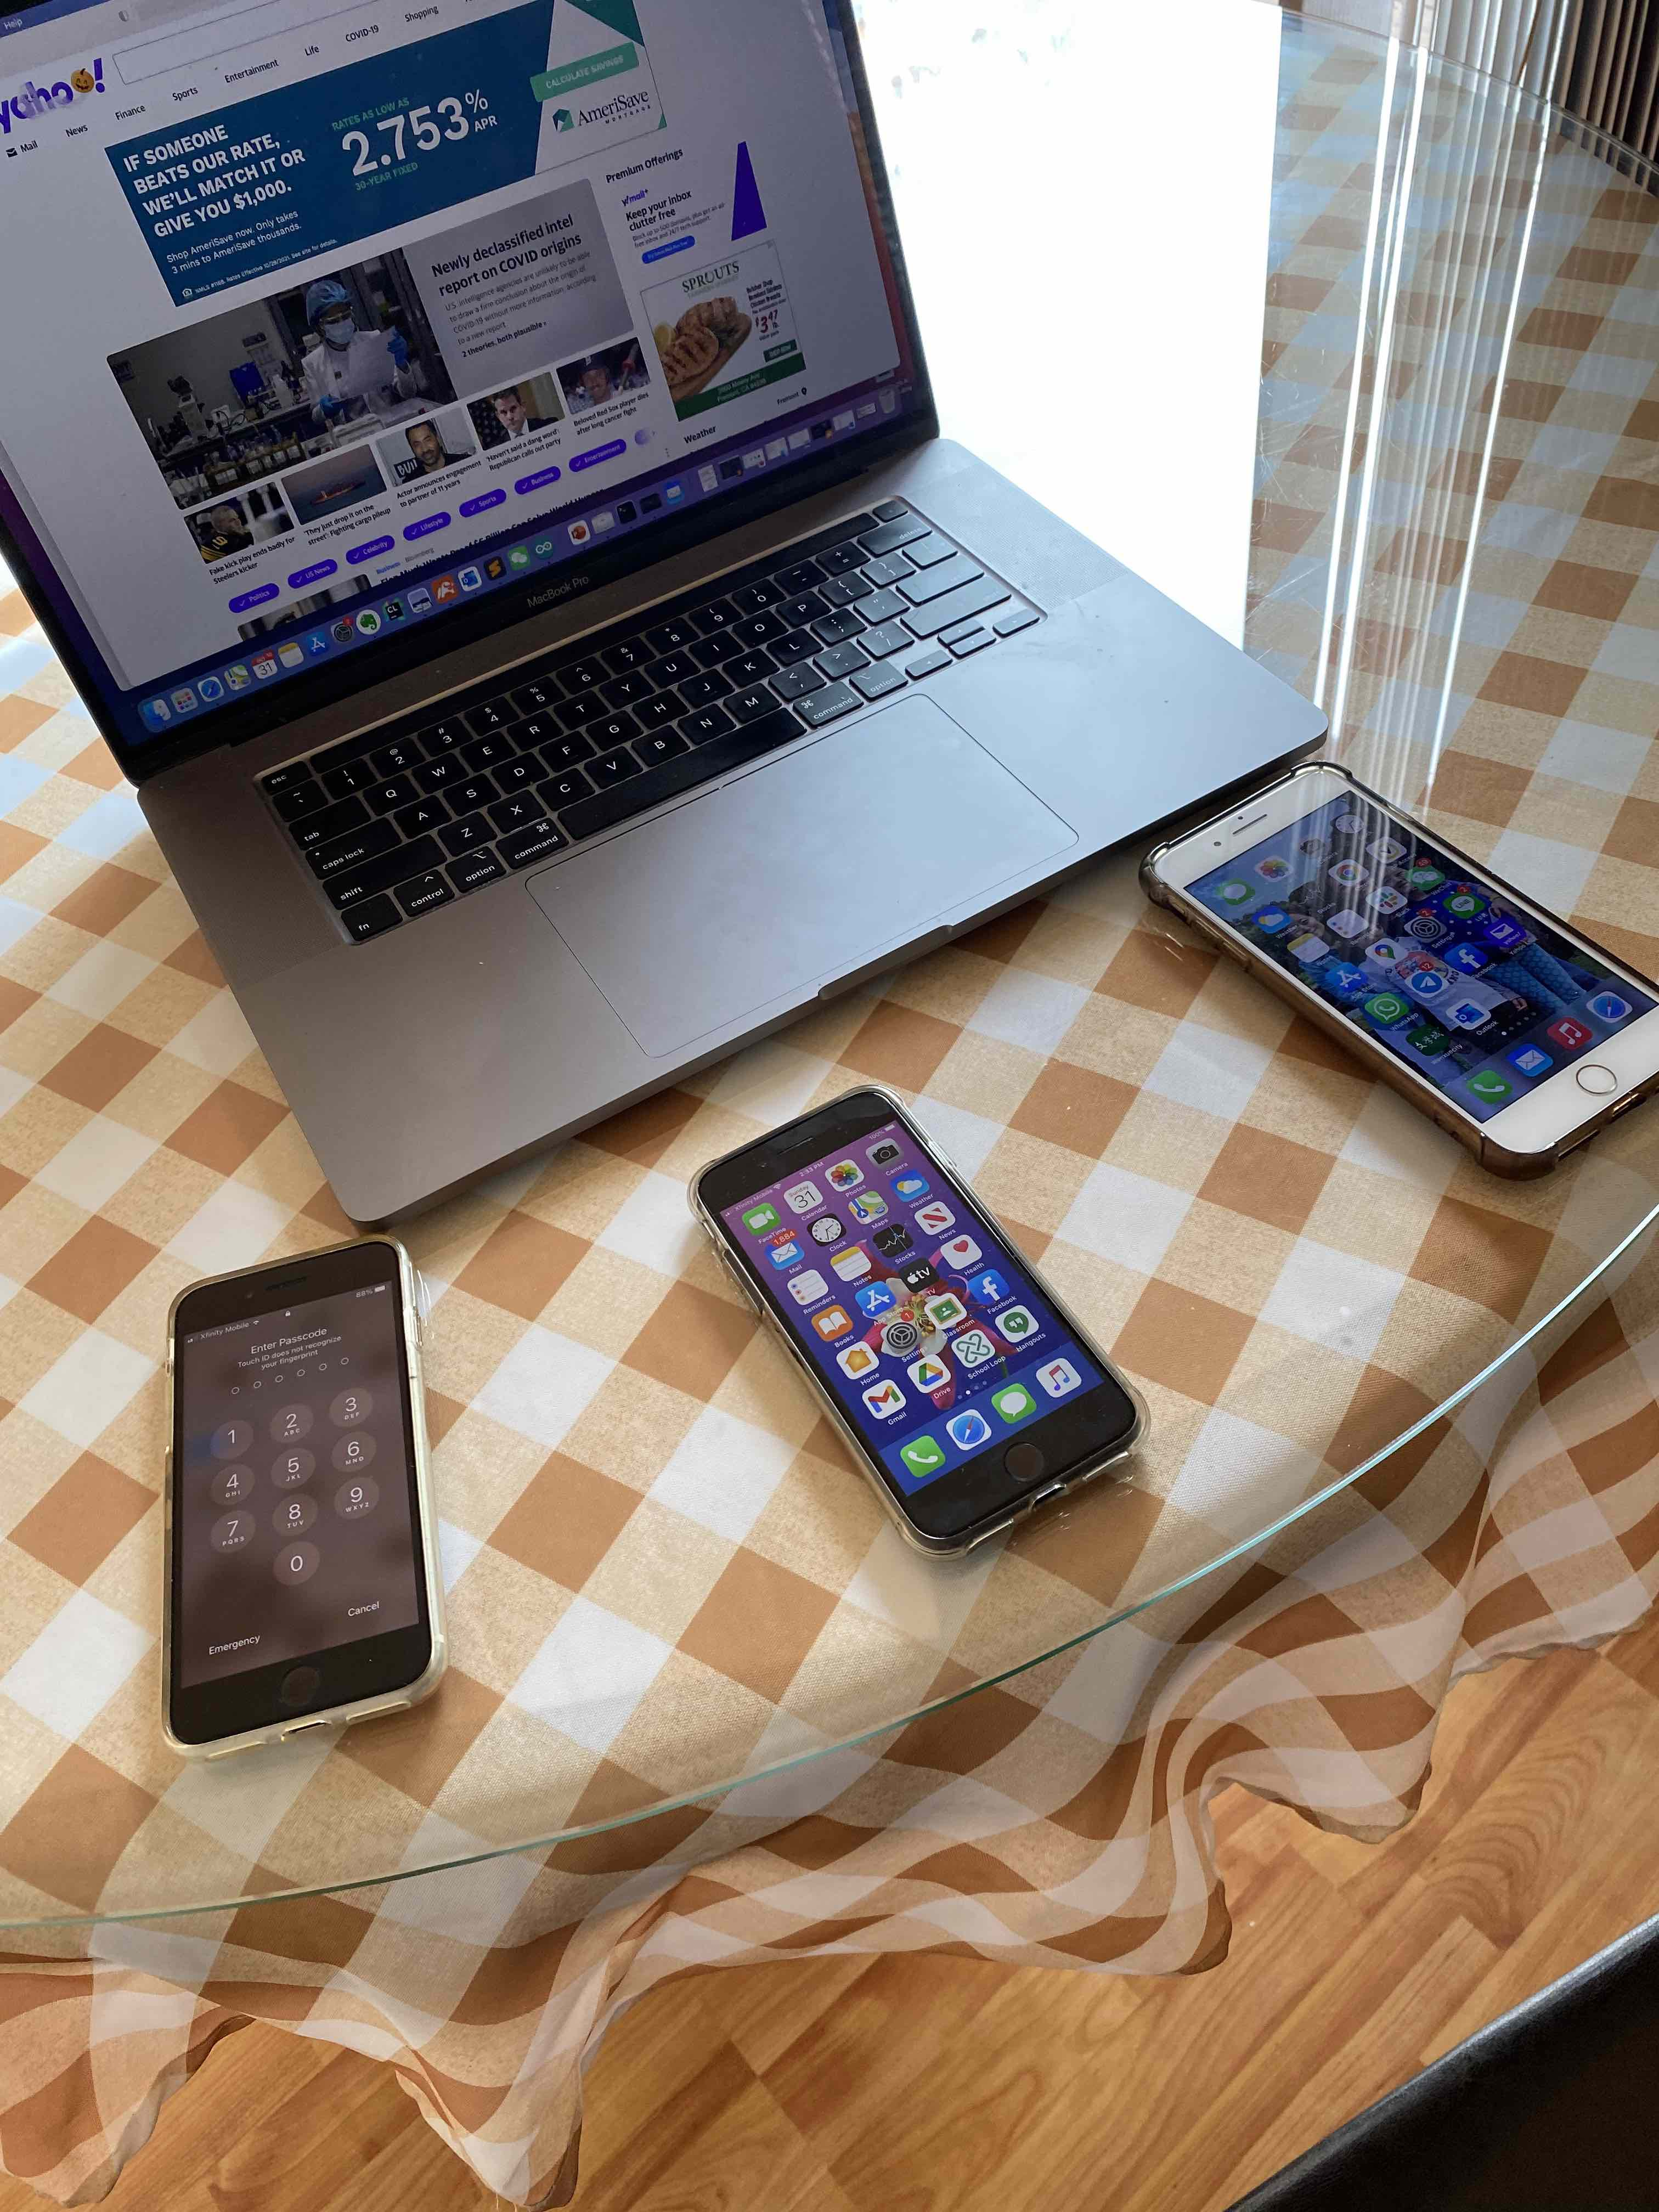Cell Phone: (1141, 766, 1659, 1181), (690, 1096, 1152, 1554), (153, 1245, 436, 1757)
